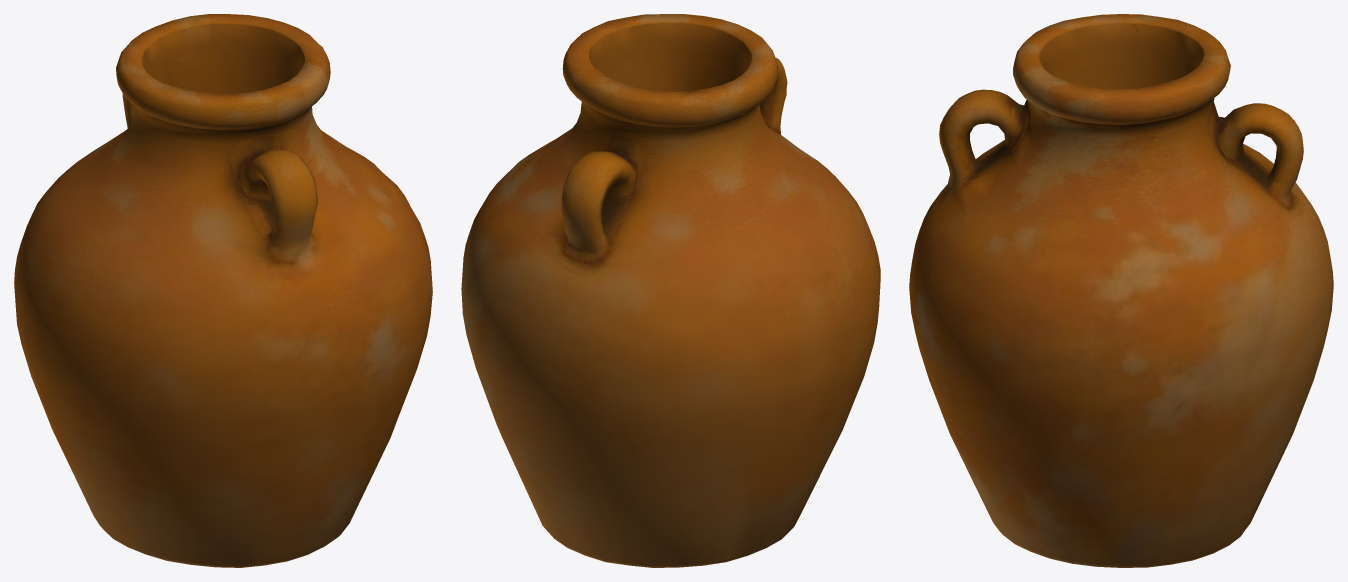
Rendered from runtime-terracotta-pot.glb.
3 renders of one model, left to right at view 1: azimuth 30°, elevation 25°; view 2: azimuth 150°, elevation 25°; view 3: azimuth 270°, elevation 25°, orthographic.
Parts seen in each view (by area): view 1: tripo_node_b0b4076e-4d22-48d8-a714-85f8d27ed001; view 2: tripo_node_b0b4076e-4d22-48d8-a714-85f8d27ed001; view 3: tripo_node_b0b4076e-4d22-48d8-a714-85f8d27ed001.
Part boxes in pixels (bbox=[...]): tripo_node_b0b4076e-4d22-48d8-a714-85f8d27ed001: bbox=[14, 14, 432, 567]; tripo_node_b0b4076e-4d22-48d8-a714-85f8d27ed001: bbox=[461, 14, 880, 567]; tripo_node_b0b4076e-4d22-48d8-a714-85f8d27ed001: bbox=[909, 14, 1333, 567].
Size of the model in its own units: 0.8223 by 0.998 by 0.8301.
1 material, 1 textured.
